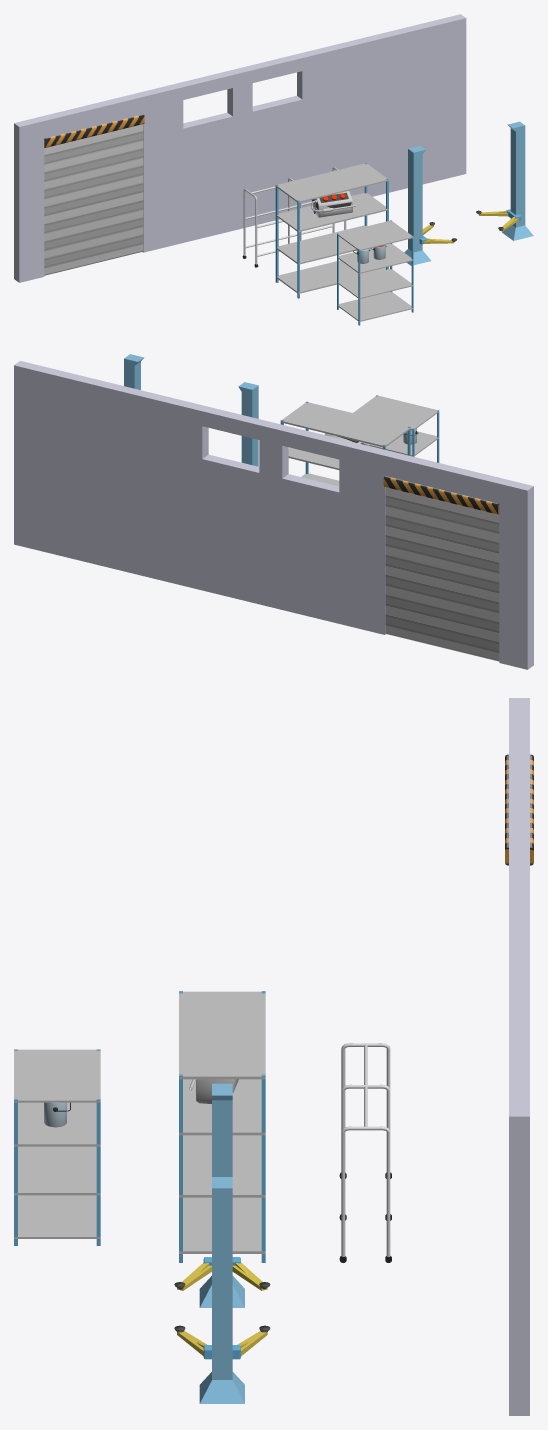
The model's file is car-repair-profit.fbx.
3 views of the same model, one above another, from view 1: azimuth 30°, elevation 25°; view 2: azimuth 150°, elevation 25°; view 3: azimuth 270°, elevation 25° (orthographic). The views are drawn at different scales.
Parts seen in each view (by area): view 1: wall, wallWindow, shutter, gate, engineRack, paintsRack, lift, wheelsRack, engine, liftPaws; view 2: wall, wallWindow, shutter, gate, engineRack, paintsRack, lift; view 3: engineRack, paintsRack, wall, lift, gate, wheelsRack, wallWindow, liftPaws.
Boxes of the visible parts, x1,y1,x2,y2 form: wall: (312, 14, 466, 196); wallWindow: (163, 50, 317, 246); shutter: (44, 124, 143, 275); gate: (14, 87, 168, 282); engineRack: (275, 163, 388, 298); paintsRack: (337, 220, 413, 325); lift: (404, 121, 533, 265); wheelsRack: (242, 167, 346, 267); engine: (311, 191, 355, 217); liftPaws: (419, 209, 520, 244); wall: (14, 361, 190, 586); wallWindow: (185, 402, 362, 627); shutter: (385, 487, 499, 661); gate: (356, 444, 533, 669); engineRack: (280, 401, 410, 486); paintsRack: (353, 395, 439, 462); lift: (124, 354, 258, 466); engineRack: (179, 991, 265, 1262); paintsRack: (14, 1049, 100, 1245); wall: (509, 977, 529, 1415); lift: (199, 1083, 244, 1403); gate: (505, 698, 533, 865); wheelsRack: (339, 1043, 391, 1262); wallWindow: (509, 837, 529, 976); liftPaws: (174, 1257, 270, 1359).
Size of the model in its own units: 14.4 by 4.8 by 7.56.
13 materials, 2 textured.
